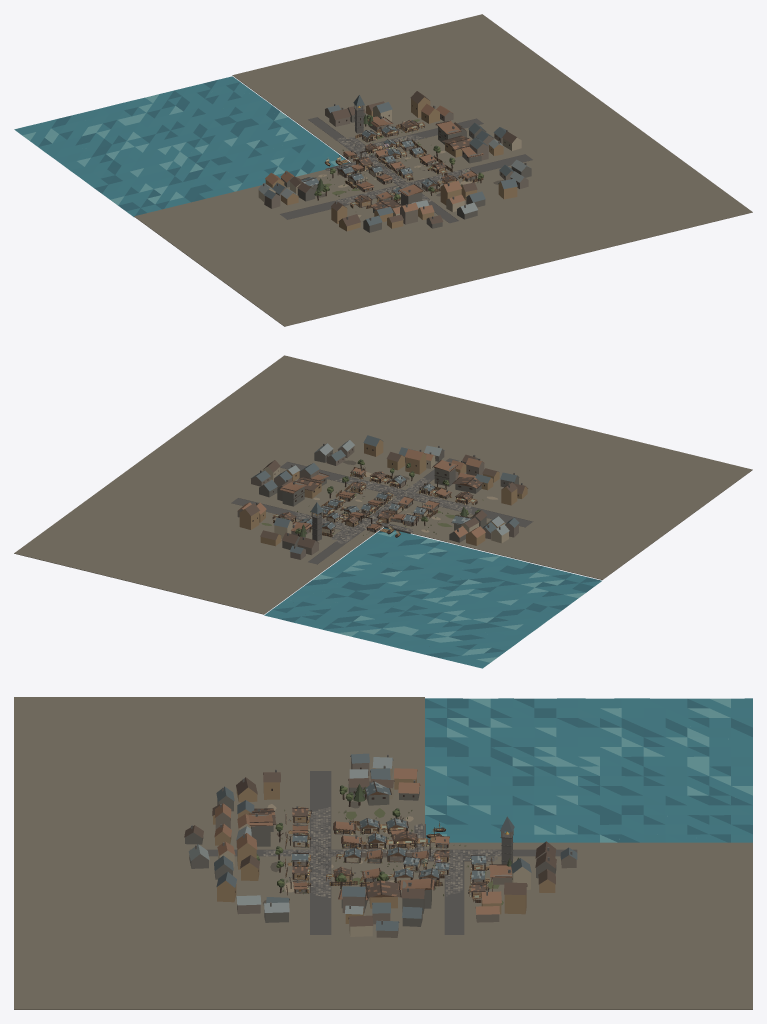
File: sikator.glb
3 views of the same model, one above another, from view 1: azimuth 30°, elevation 25°; view 2: azimuth 150°, elevation 25°; view 3: azimuth 270°, elevation 25° (orthographic). The views are drawn at different scales.
Visible parts, largest first — view 1: batch_far_earth, batch_far_water, batch_far_water_dark, batch_far_water_light, batch_far_plaster_ochre, batch_stone_dark, batch_far_roof_rust, batch_far_slate_blue, batch_far_roof_umber, batch_far_plaster_soot, batch_far_plaster, batch_far_stone (+7 smaller); view 2: batch_far_earth, batch_far_water, batch_far_water_dark, batch_far_water_light, batch_far_plaster_ochre, batch_stone_dark, batch_far_slate_blue, batch_far_roof_umber, batch_far_plaster_soot, batch_far_roof_rust, batch_far_plaster, batch_far_stone (+8 smaller); view 3: batch_far_earth, batch_far_water, batch_far_water_dark, batch_far_water_light, batch_stone_dark, batch_far_slate_blue, batch_far_roof_umber, batch_far_roof_rust, batch_far_plaster_ochre, batch_far_plaster_soot, batch_far_stone_dark, batch_far_stone (+11 smaller).
Part boxes in pixels (x1,y1,x2,y2): batch_far_earth: [134, 14, 752, 326]; batch_far_water: [14, 76, 343, 216]; batch_far_water_dark: [38, 80, 349, 217]; batch_far_water_light: [22, 94, 343, 205]; batch_far_plaster_ochre: [265, 97, 517, 231]; batch_stone_dark: [280, 117, 532, 223]; batch_far_roof_rust: [265, 103, 483, 214]; batch_far_slate_blue: [264, 95, 517, 225]; batch_far_roof_umber: [289, 91, 517, 226]; batch_far_plaster_soot: [281, 108, 531, 232]; batch_far_plaster: [264, 108, 528, 224]; batch_far_stone: [263, 104, 526, 220]; batch_far_earth: [14, 355, 752, 614]; batch_far_water: [264, 531, 601, 668]; batch_far_water_dark: [272, 527, 601, 657]; batch_far_water_light: [312, 531, 585, 662]; batch_far_plaster_ochre: [239, 439, 527, 546]; batch_stone_dark: [280, 458, 532, 564]; batch_far_slate_blue: [252, 435, 519, 554]; batch_far_roof_umber: [245, 452, 527, 548]; batch_far_plaster_soot: [259, 449, 518, 549]; batch_far_roof_rust: [238, 449, 485, 537]; batch_far_plaster: [237, 446, 518, 559]; batch_far_stone: [256, 443, 522, 548]; batch_far_earth: [14, 697, 752, 1009]; batch_far_water: [425, 698, 752, 842]; batch_far_water_dark: [425, 698, 752, 842]; batch_far_water_light: [425, 698, 752, 842]; batch_stone_dark: [189, 771, 577, 934]; batch_far_slate_blue: [214, 753, 577, 930]; batch_far_roof_umber: [184, 772, 556, 926]; batch_far_roof_rust: [214, 768, 511, 914]; batch_far_plaster_ochre: [213, 778, 555, 923]; batch_far_plaster_soot: [185, 784, 556, 926]; batch_far_stone_dark: [255, 771, 513, 934]; batch_far_stone: [191, 754, 572, 924].
Bounding box in the file's own units: 80 × 6.5 × 80.
